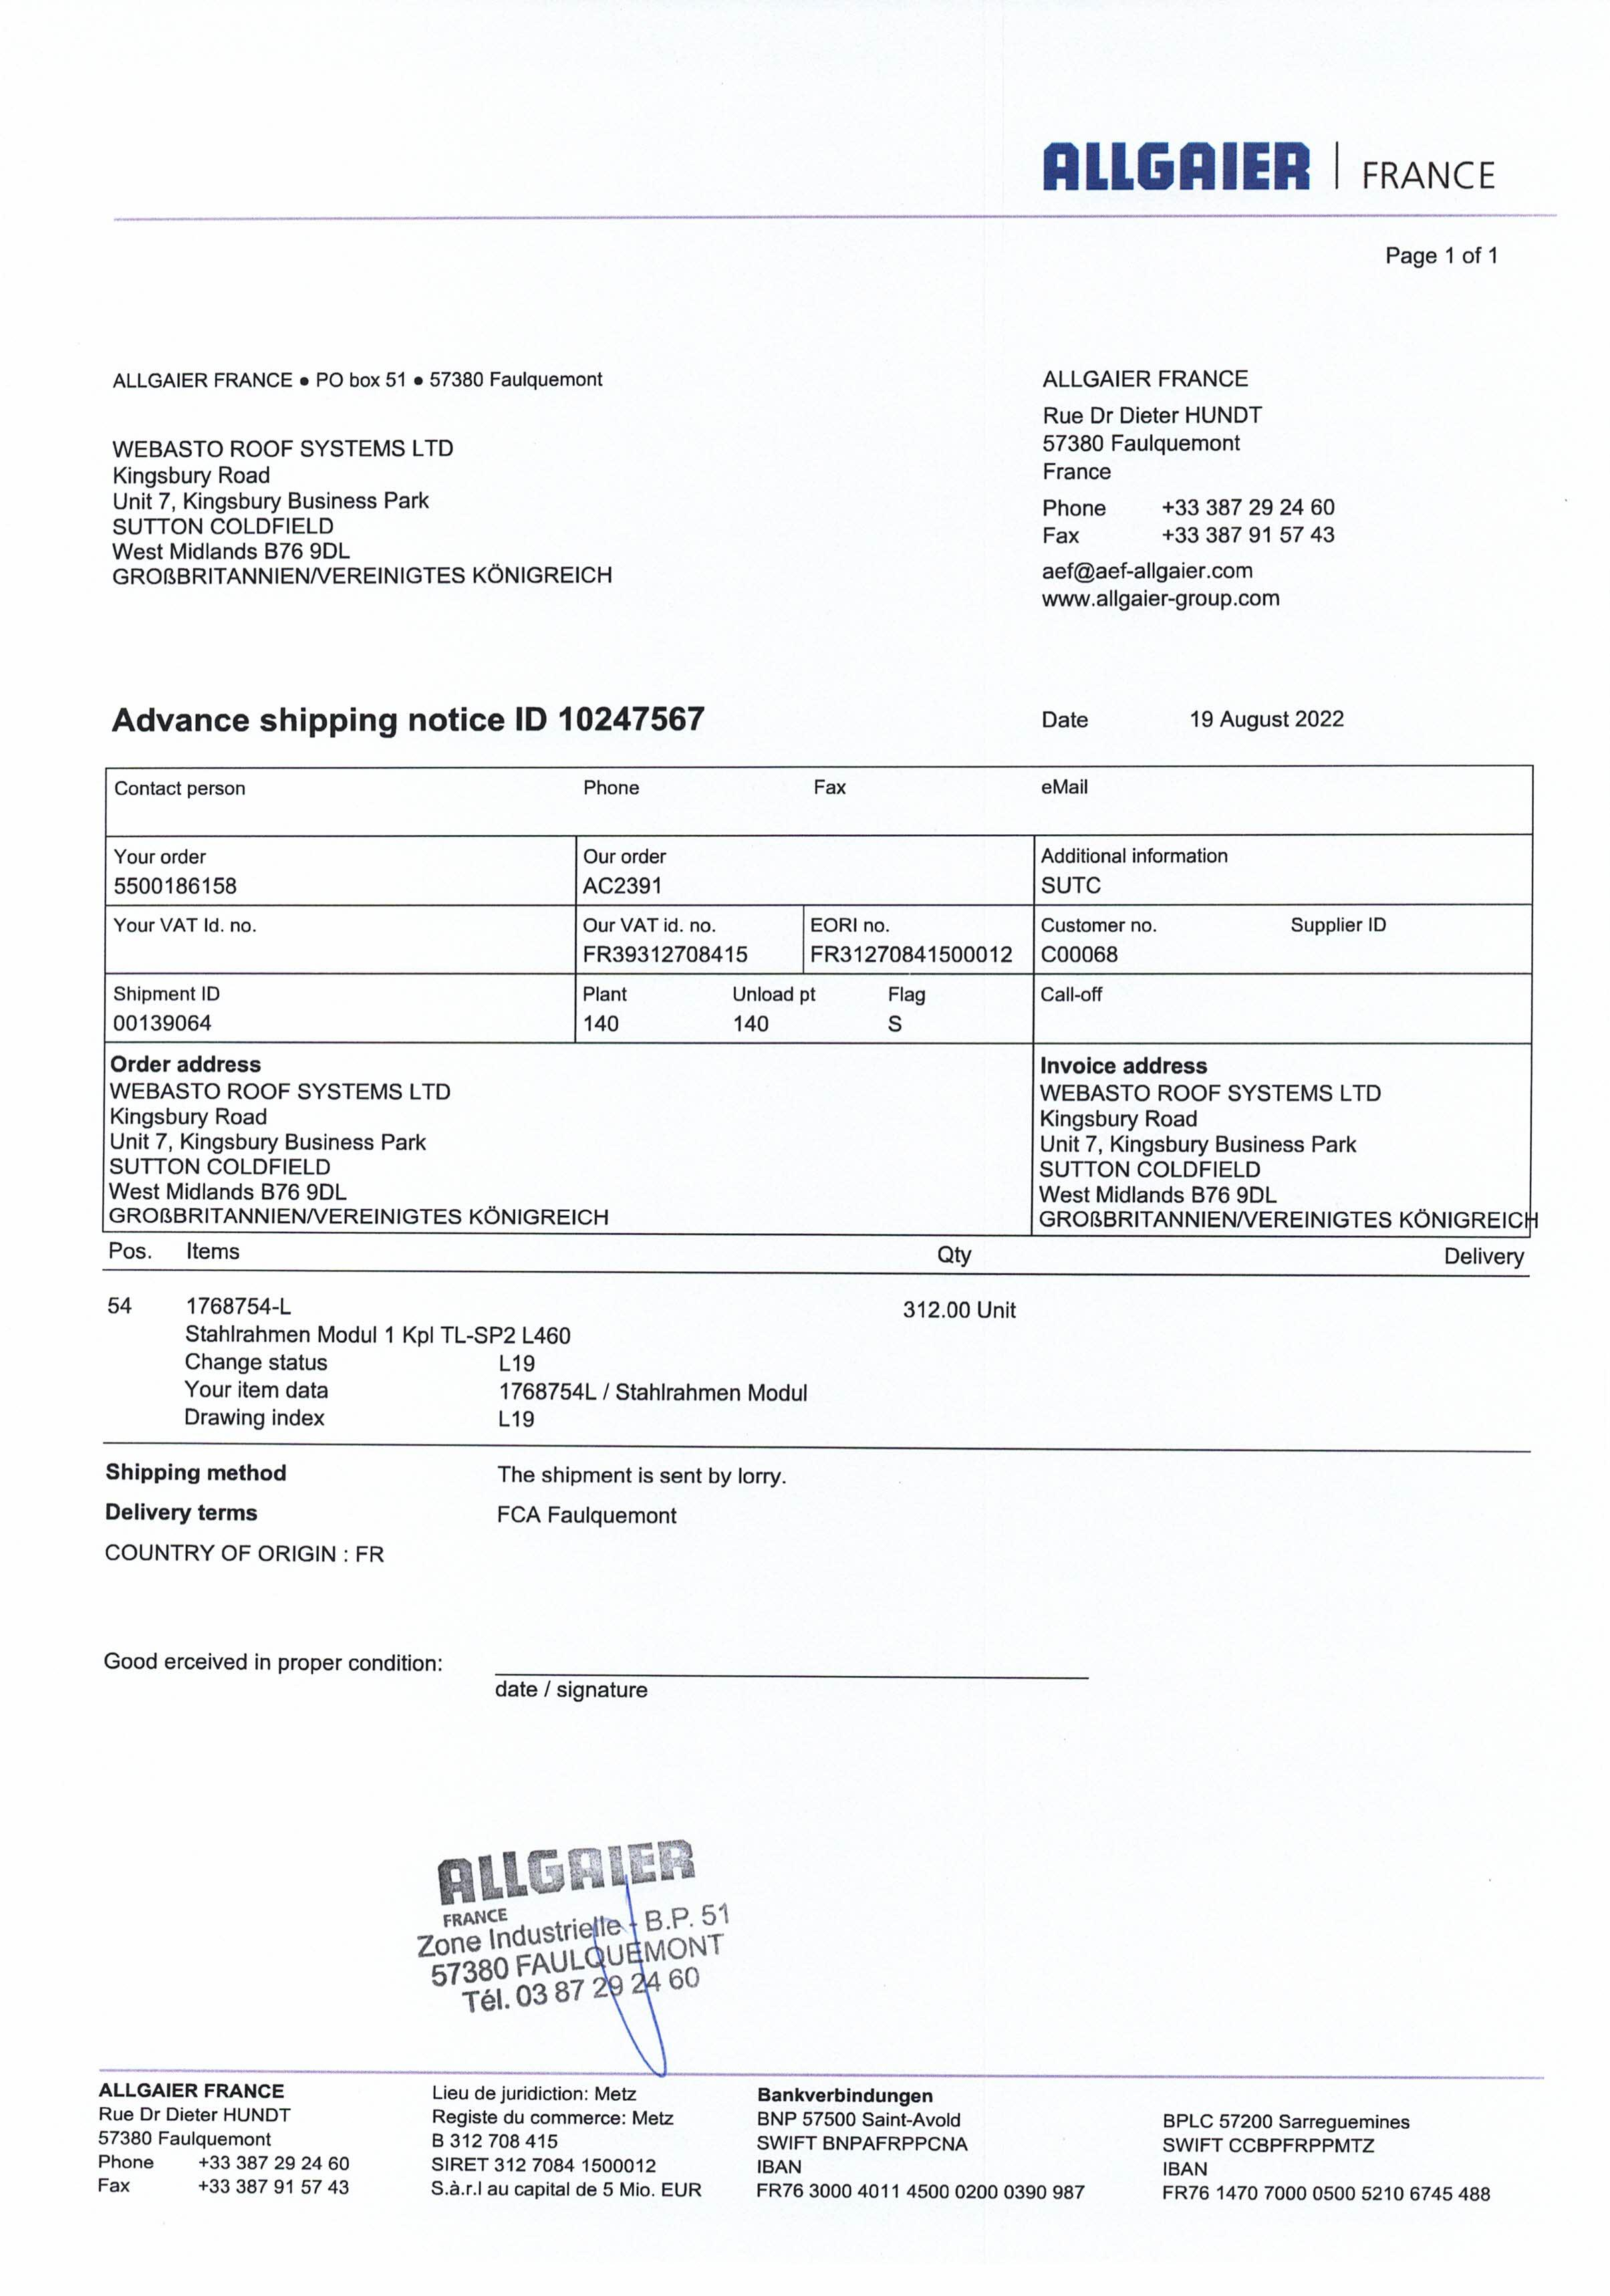B_Paragraph: (115, 1240, 809, 1443), (1034, 1047, 1540, 1237), (110, 1050, 621, 1235), (110, 433, 617, 600), (1040, 359, 1341, 628), (106, 1462, 794, 1572), (408, 1835, 752, 2019), (757, 2076, 1085, 2211), (1155, 2101, 1497, 2226), (427, 2071, 712, 2216), (91, 2069, 358, 2200), (110, 366, 614, 400), (110, 1643, 448, 1687), (808, 909, 1013, 970), (890, 1237, 1027, 1328), (1038, 844, 1249, 900), (1038, 703, 1350, 740), (577, 914, 762, 970), (105, 841, 262, 900), (1043, 911, 1163, 972), (583, 839, 679, 905), (106, 981, 220, 1036), (492, 1675, 652, 1710), (112, 911, 262, 946), (727, 981, 815, 1040), (112, 775, 251, 810), (1284, 909, 1395, 939), (1439, 1240, 1537, 1272), (794, 769, 872, 804), (884, 984, 933, 1036), (583, 984, 633, 1031), (577, 775, 649, 801), (1040, 771, 1090, 804), (1045, 984, 1115, 1007)
B_Title: (1034, 117, 1516, 216), (112, 694, 708, 748)
